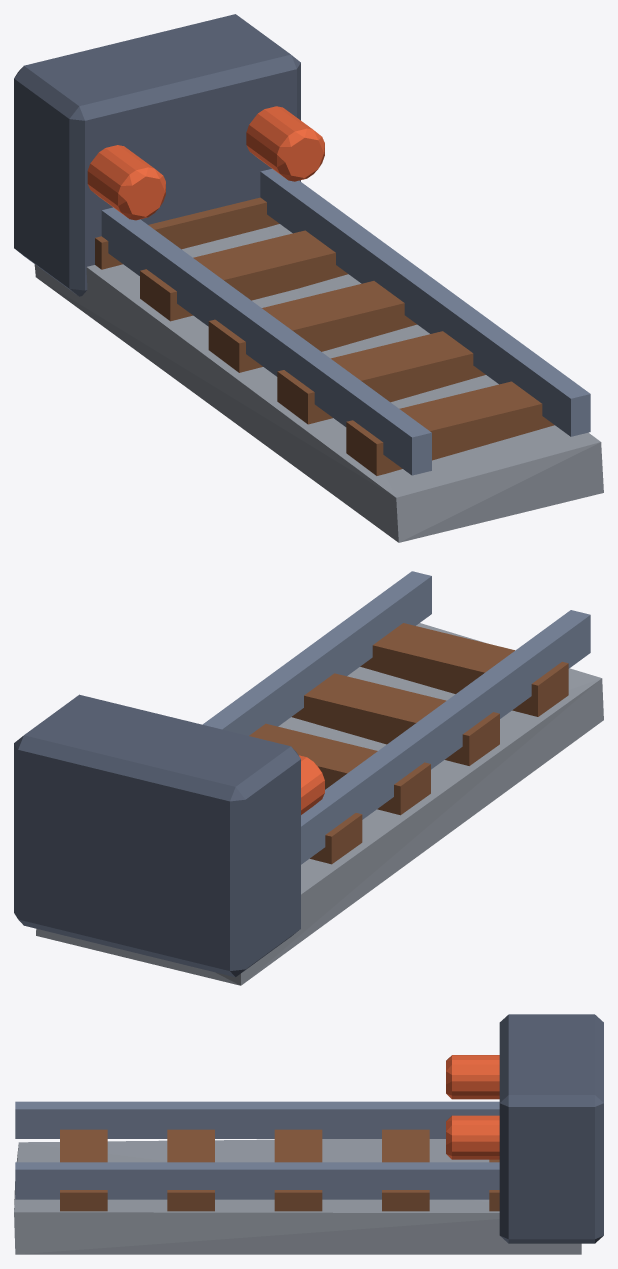
The model's file is SM_Rail_Buffer.fbx.
The picture shows the model from 3 angles, top to bottom: view 1: azimuth 30°, elevation 25°; view 2: azimuth 150°, elevation 25°; view 3: azimuth 270°, elevation 25°; orthographic projection. The views are drawn at different scales.
Visible parts, largest first — view 1: SM_Rail_Buffer; view 2: SM_Rail_Buffer; view 3: SM_Rail_Buffer.
Boxes of the visible parts, <box> form: SM_Rail_Buffer: <box>14,14,603,542</box>; SM_Rail_Buffer: <box>14,571,603,985</box>; SM_Rail_Buffer: <box>14,1014,603,1254</box>.
Bounding box in the file's own units: 0.7 × 0.595 × 1.98.
